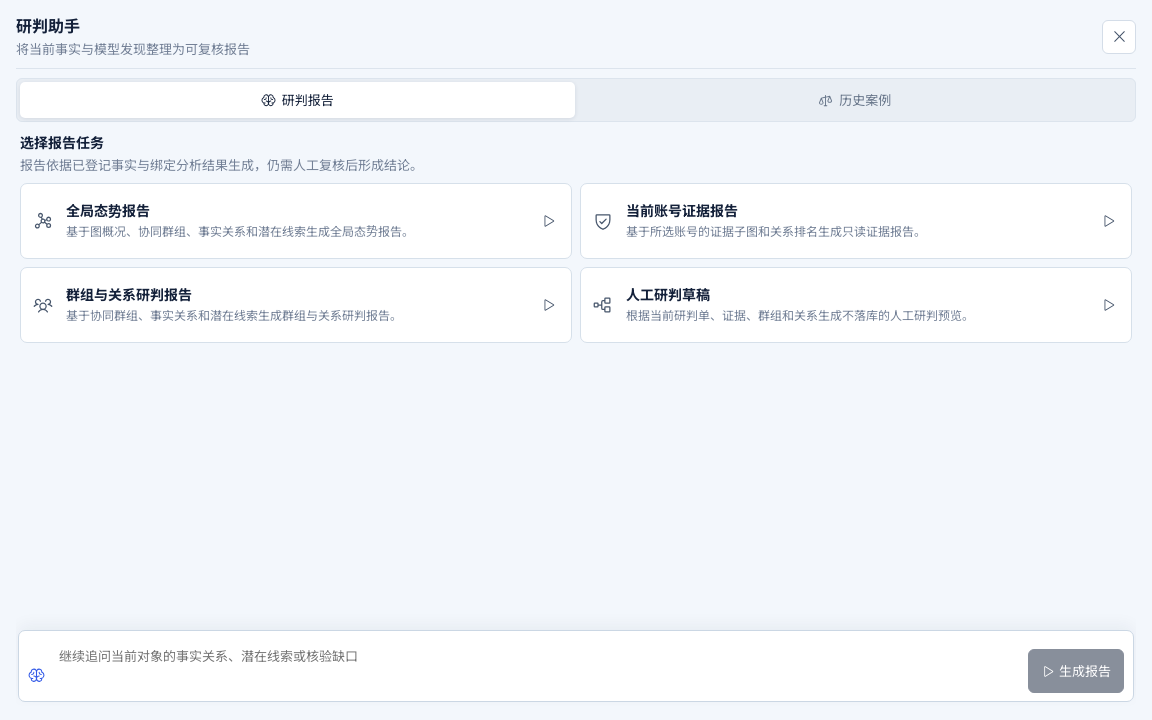
Test: governance report assistant › collapses tasks after generation and renders a document with folded source hashes
Click the button "全局态势报告 基于图概况、协同群组、事实关系和潜在线索生成全局态势报告。". click: [296, 221]
box: [20,183,572,259]
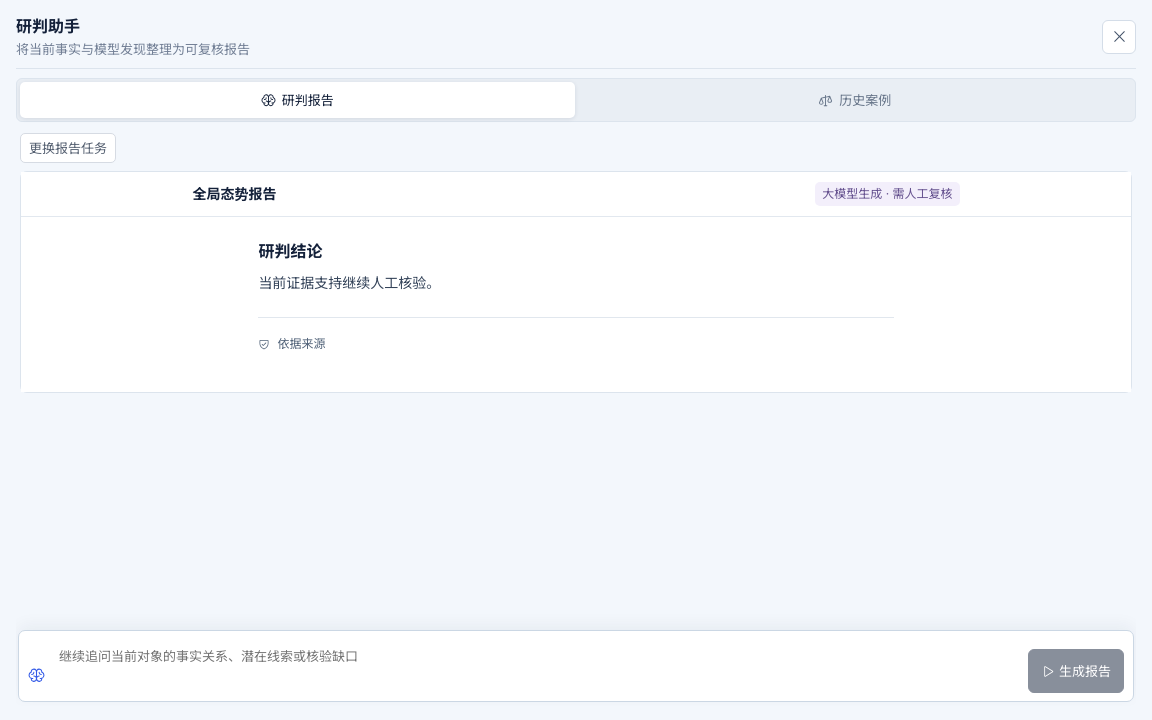
Check: the heading "研判结论" is shown, box [258,241,322,261]
Check: the element "研判报告任务" is gone
Check: the button "更换报告任务" is shown, box [20,133,116,163]
